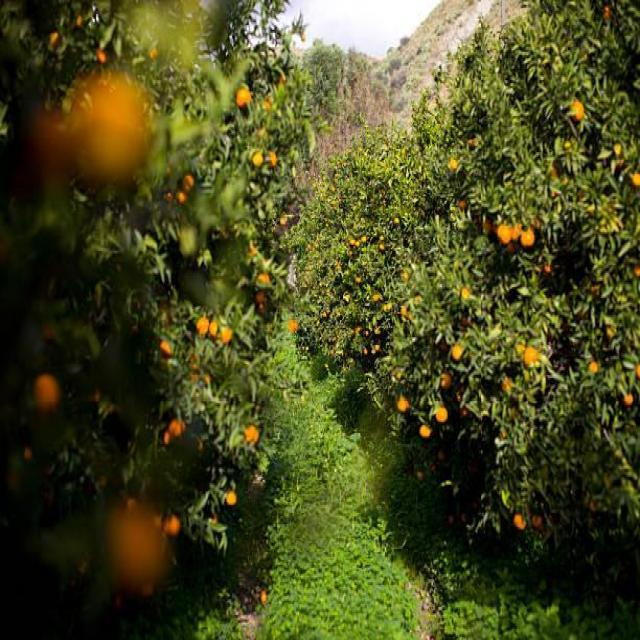Jeruk Sudah Matang: (236, 88, 251, 107), (498, 224, 511, 243), (197, 318, 210, 336), (520, 230, 534, 244), (252, 152, 264, 168), (436, 408, 448, 423), (268, 150, 278, 166), (226, 492, 237, 506), (420, 425, 430, 438), (209, 322, 218, 336)
